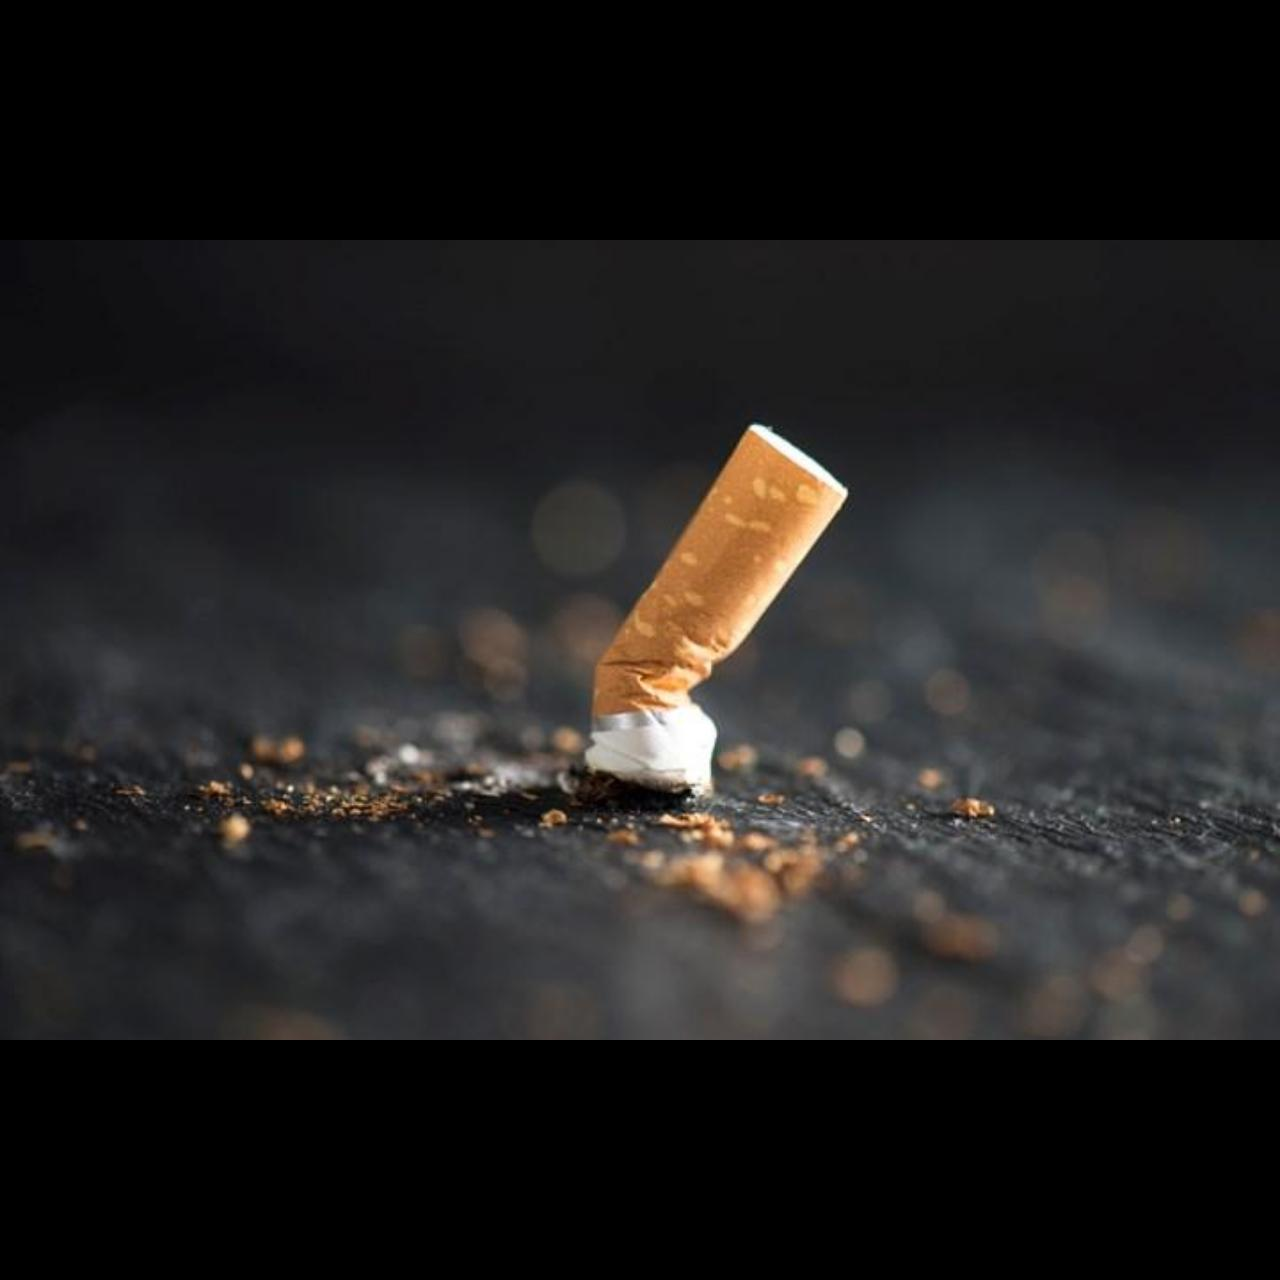cigarettes_butts: (578, 427, 846, 823)
